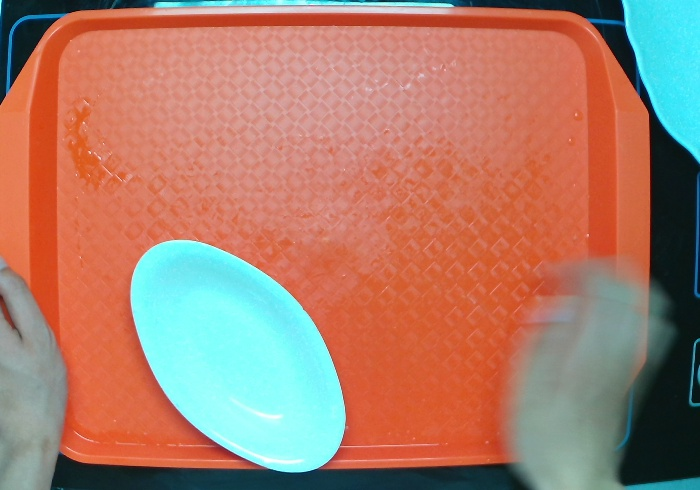RJxy-Bai_Se_Tuo_Yuan: (124, 235, 350, 477)
